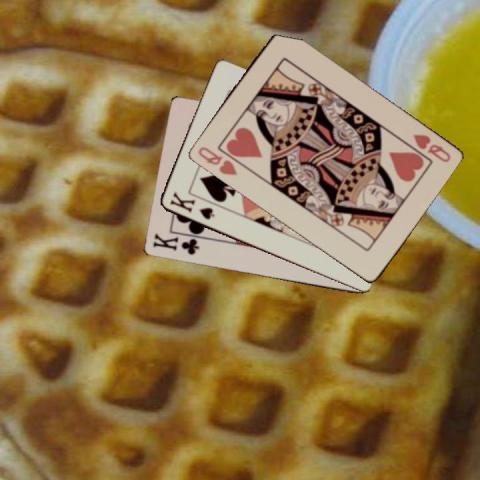Kc: (150, 230, 201, 256)
Ks: (167, 190, 216, 222)
Qh: (195, 144, 239, 177), (409, 131, 452, 164)
